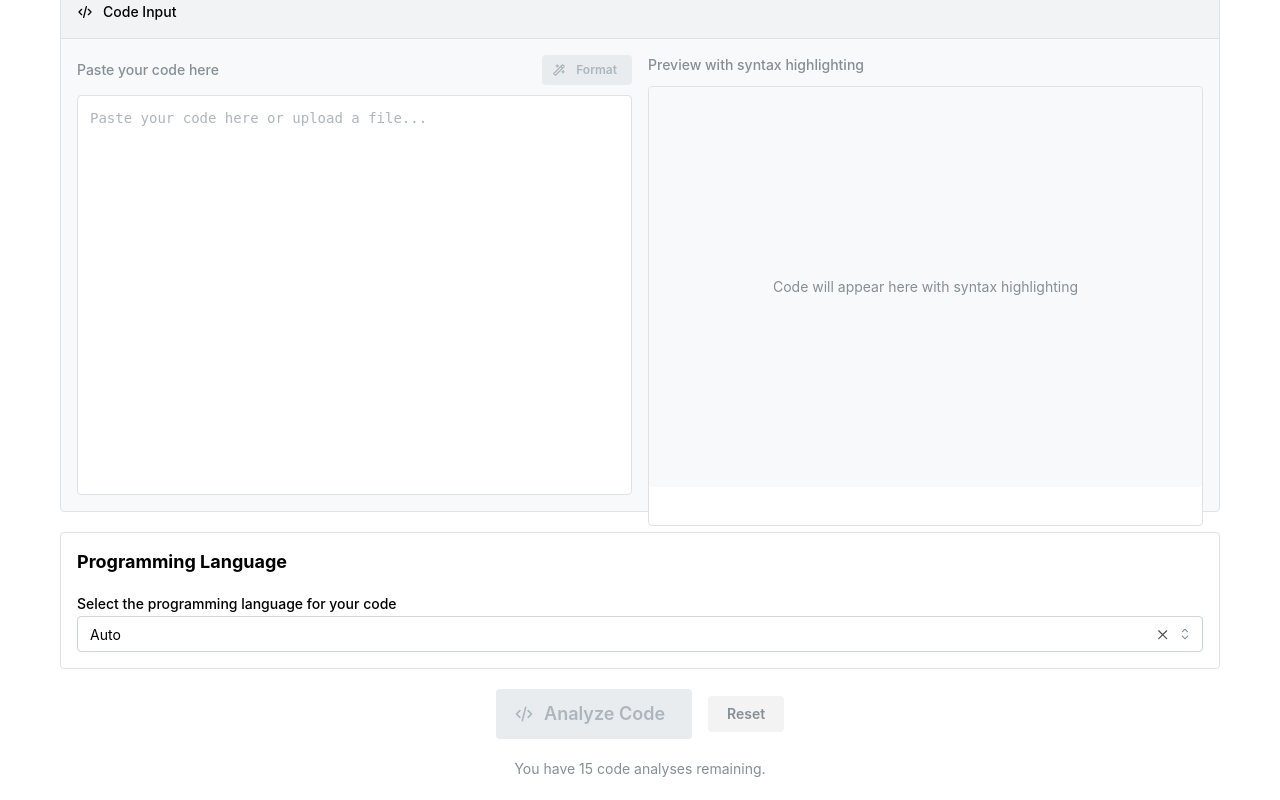
CodeInput component › allows manual language selection
The width and height of the screenshot is (1280, 800).
(page scrolled)
Click the field with placeholder "Language will be auto-detected" at (640, 634), box [77, 616, 1203, 652]
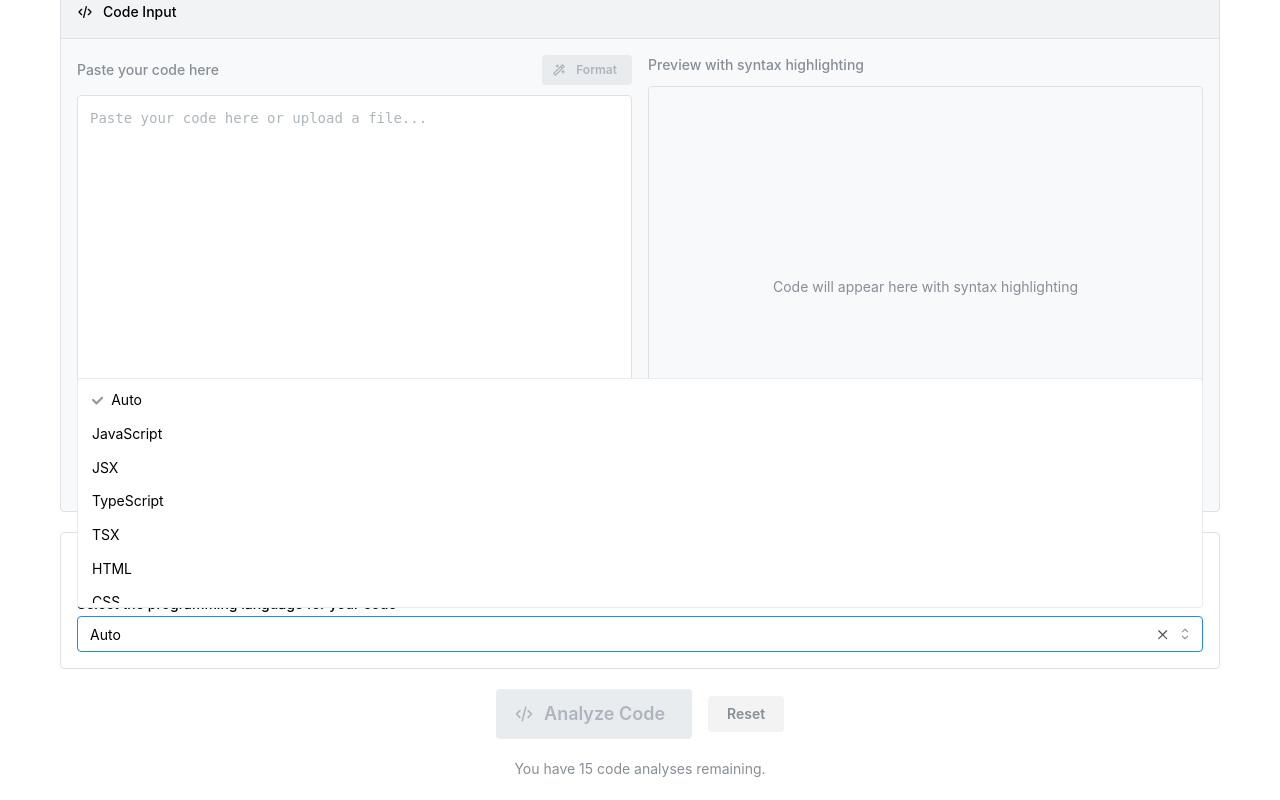
# Look for JavaScript option (which should be available)
Click the option "JavaScript" at (127, 434), box [92, 425, 162, 442]
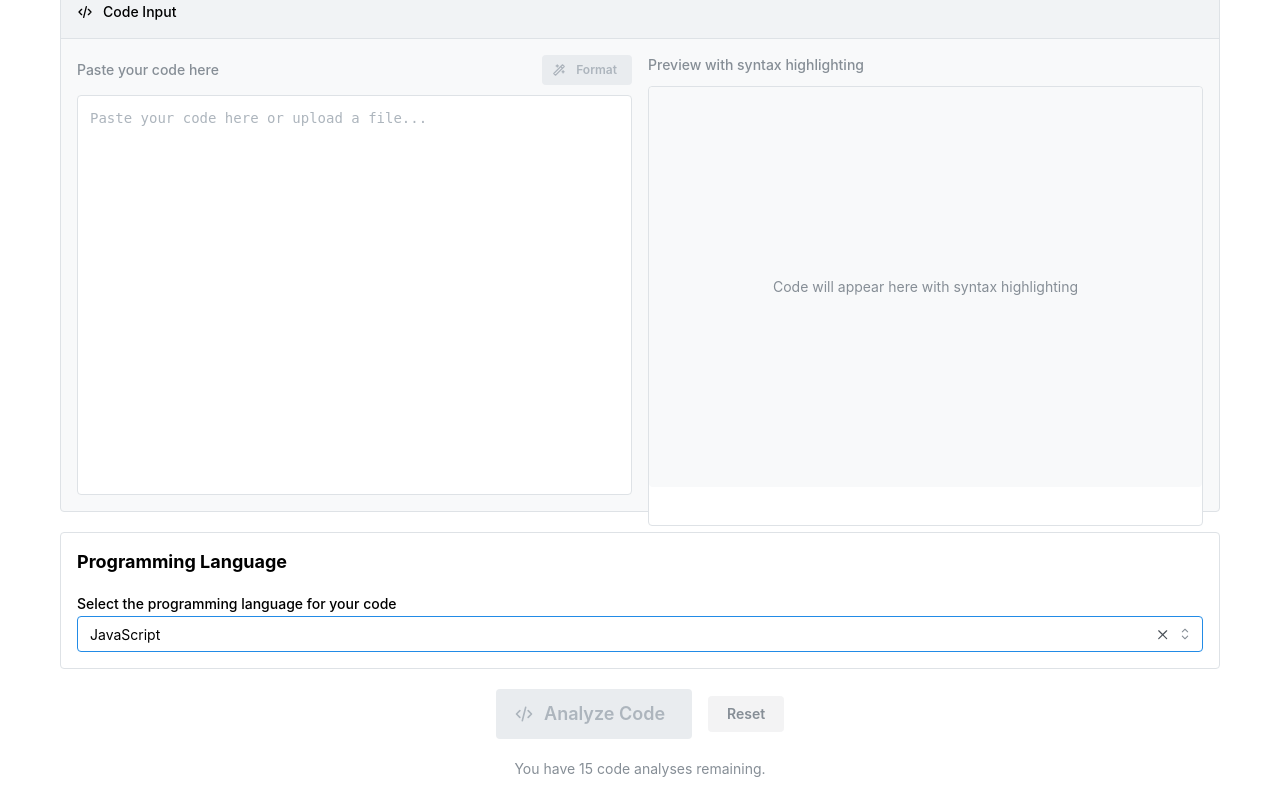
Expected: the field showing "JavaScript" is shown, [77, 616, 1203, 652]
